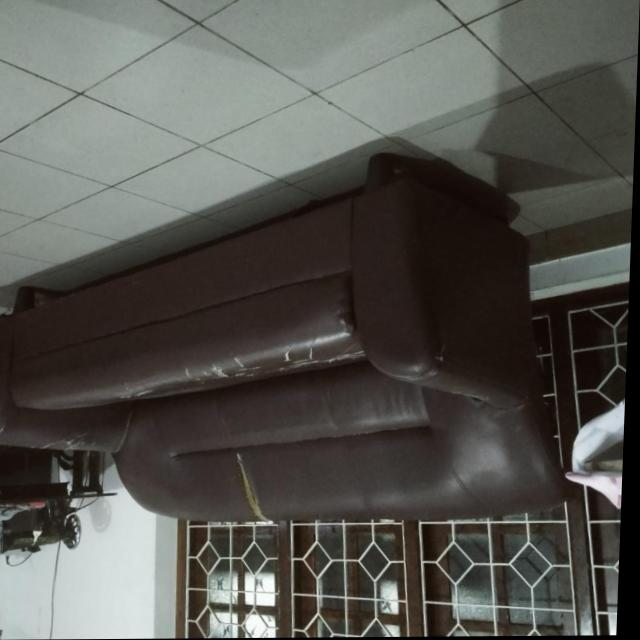Sofa: (0, 155, 572, 524)
